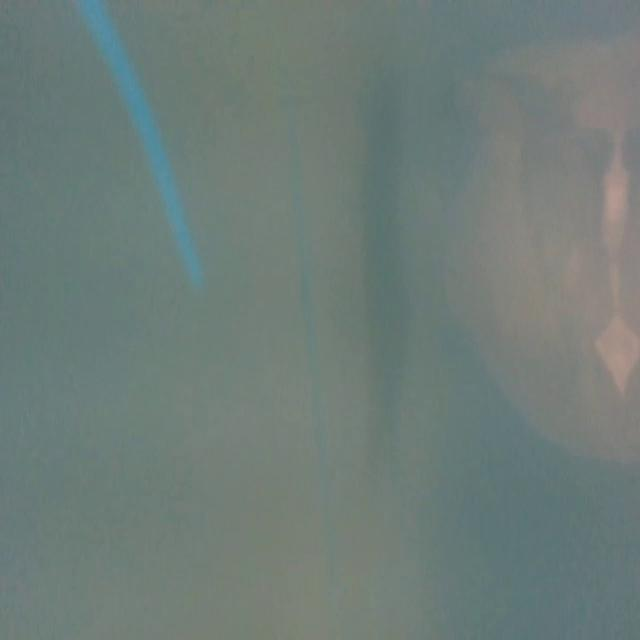plastic bags: (451, 38, 640, 478)
